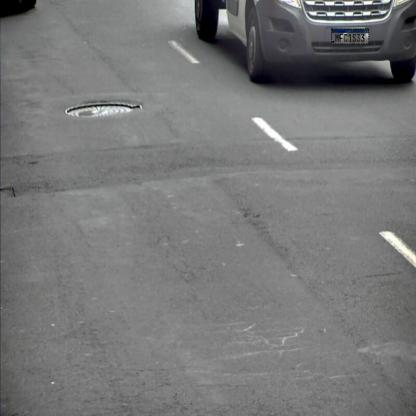PlacaM: (331, 28, 369, 44)
